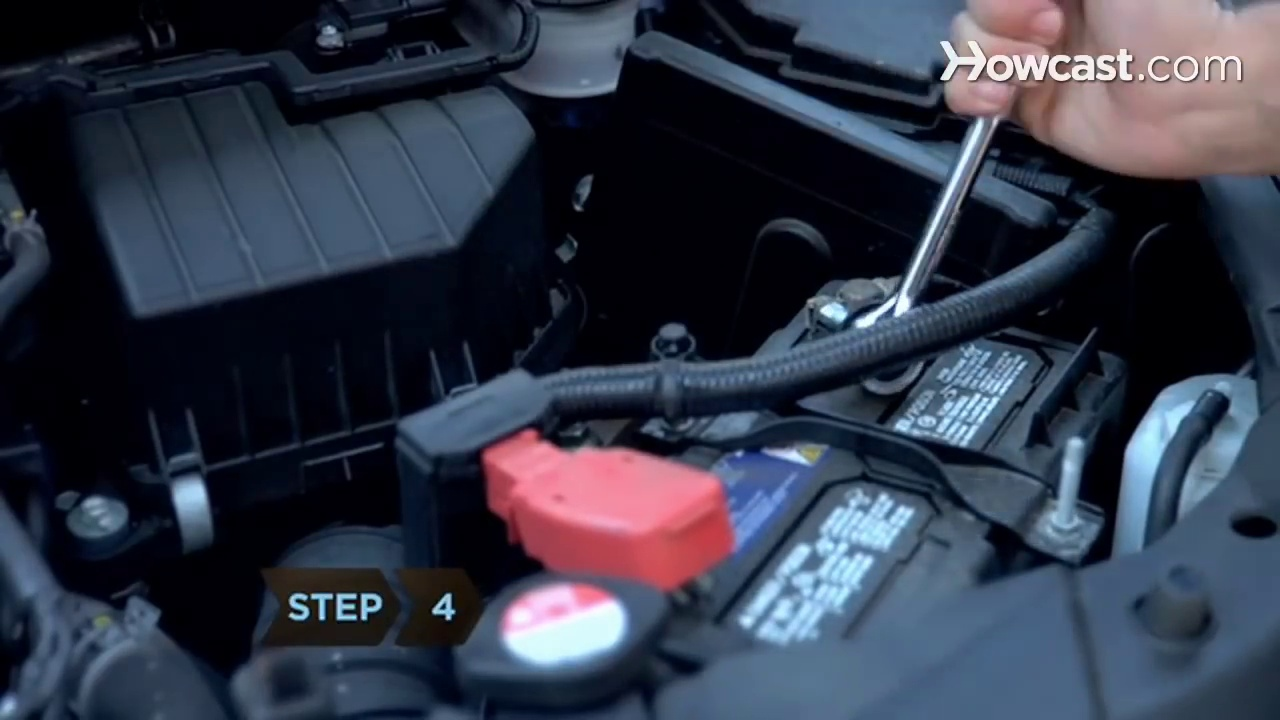battery: (509, 278, 1126, 660)
neg_touched: (794, 1, 1174, 364)
pos_connected: (467, 417, 740, 591)
